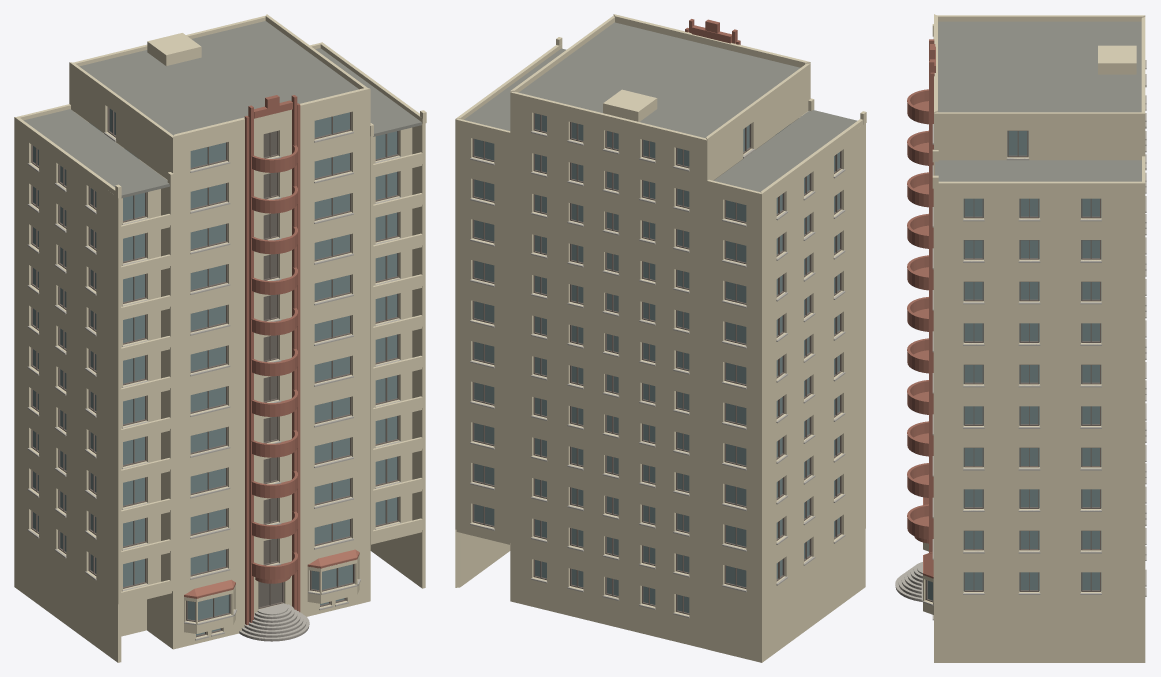
File: xuhui-willow-court-lod.glb
3 renders of one model, left to right at view 1: azimuth 30°, elevation 25°; view 2: azimuth 150°, elevation 25°; view 3: azimuth 270°, elevation 25°, orthographic. The views are drawn at different scales.
Parts seen in each view (by area): view 1: 会乐精舍（卫乐公寓）; view 2: 会乐精舍（卫乐公寓）; view 3: 会乐精舍（卫乐公寓）.
Boxes of the visible parts, x1,y1,x2,y2 form: 会乐精舍（卫乐公寓）: (14,14,426,662); 会乐精舍（卫乐公寓）: (455,14,866,662); 会乐精舍（卫乐公寓）: (895,14,1146,662).
Size of the model in its own units: 24.54 by 40.02 by 16.92.
